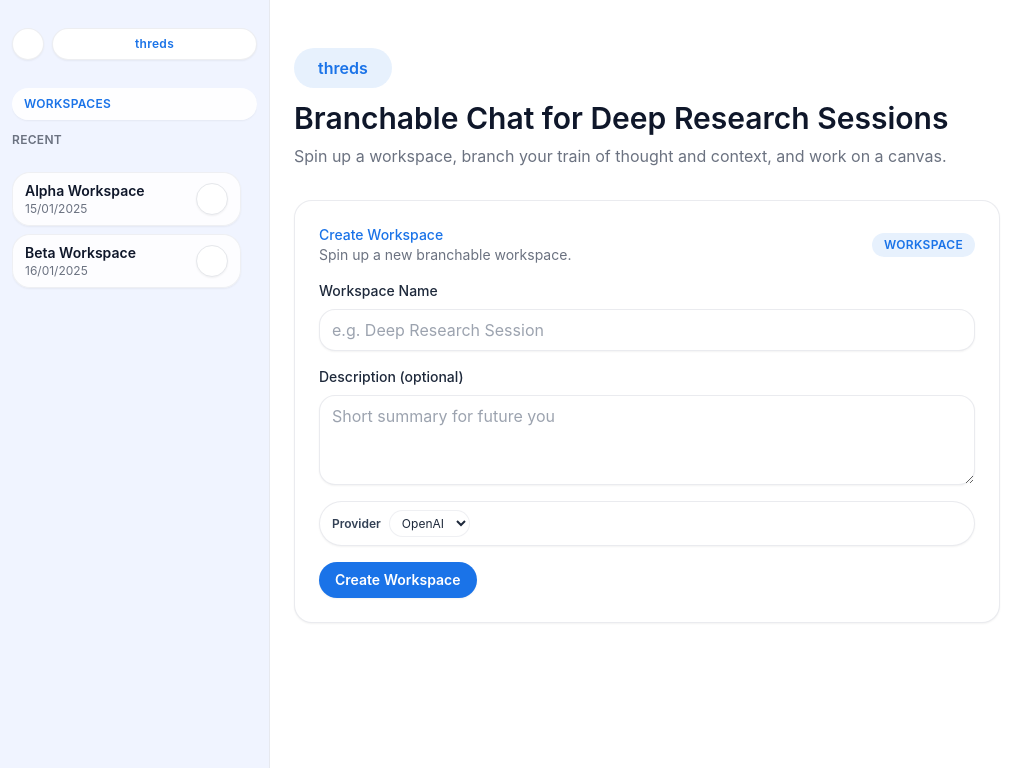
Test: HomePageContent archive behavior › archives a project after confirmation and persists localStorage
The width and height of the screenshot is (1024, 768).
Expected: the list item "Alpha Workspace 15/01/2025" is shown, [12,172,241,226]
Click the button named "Archive workspace" next to "Alpha Workspace" at {"x": 212, "y": 199}, box [196,183,228,215]
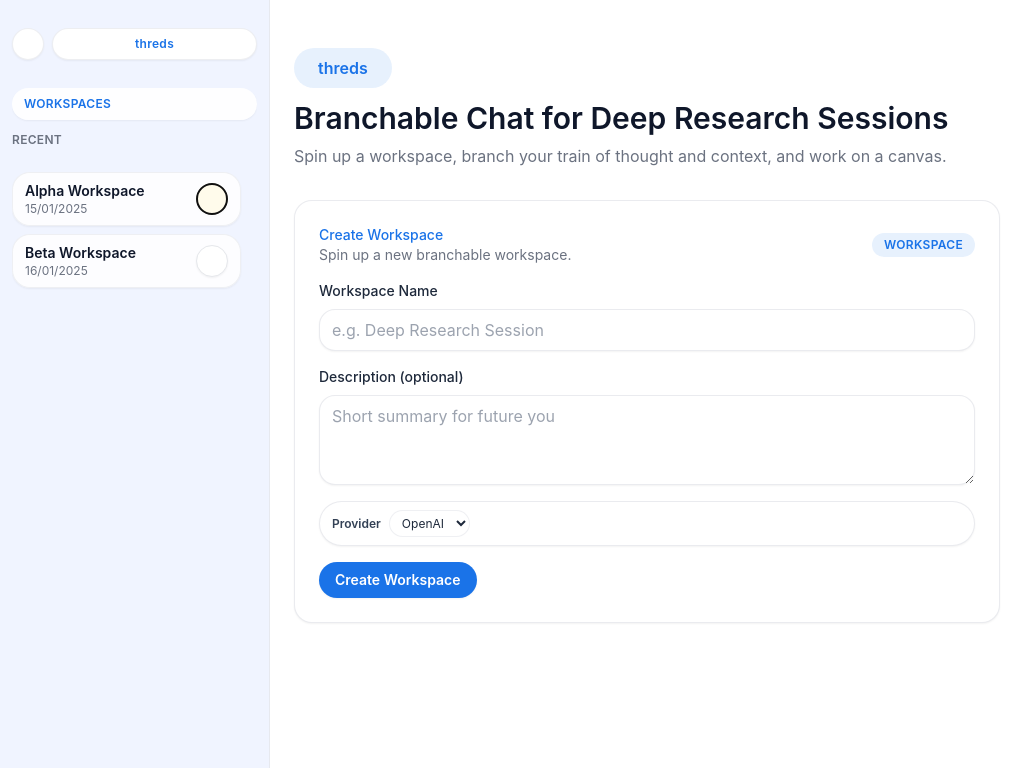
Click the button named "Confirm archive" at {"x": 212, "y": 199}, box [196,183,228,215]
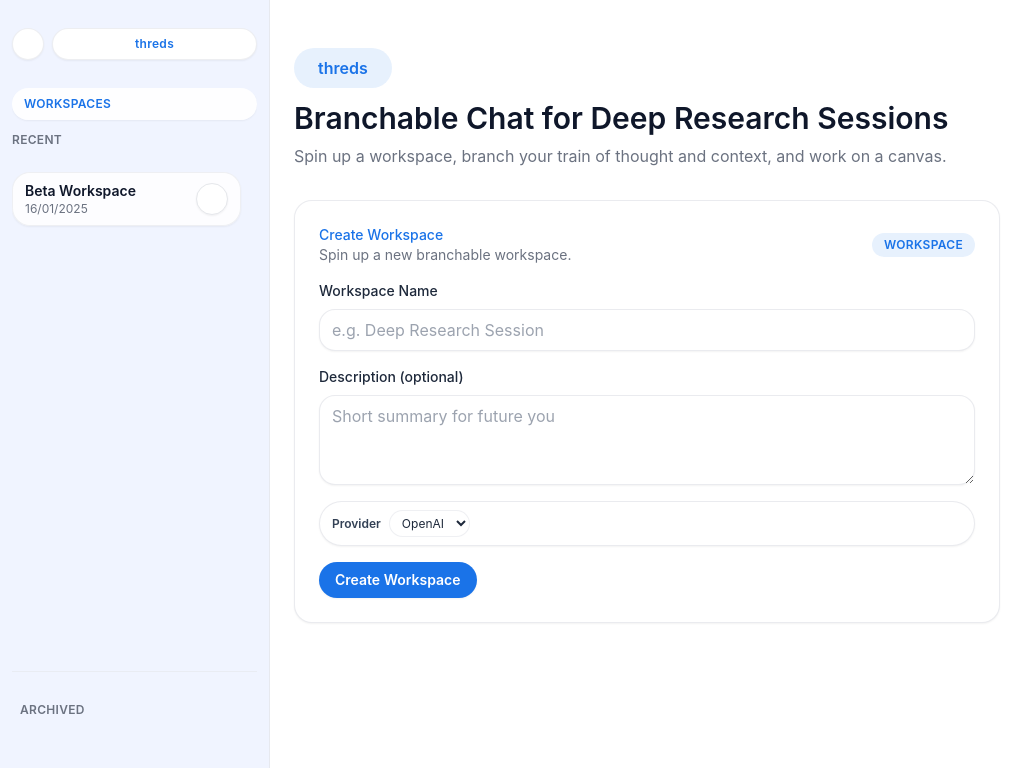
Click the button "Archived" at {"x": 134, "y": 710}, box [12,696,257,724]
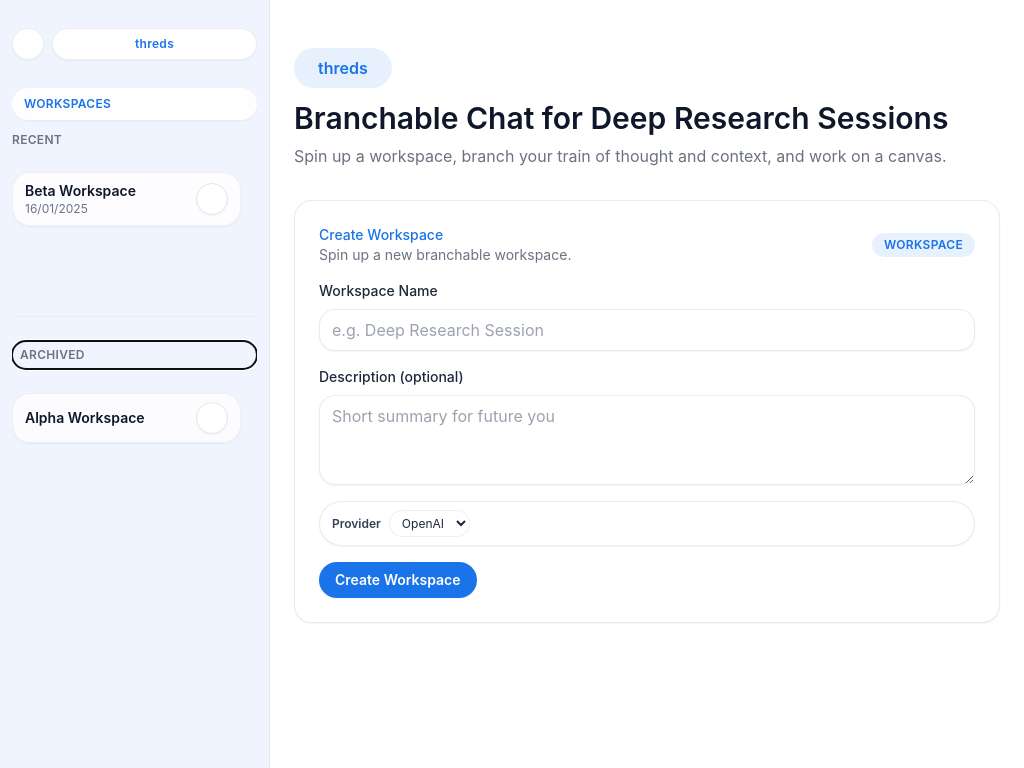
Result: the text "Archived" is shown at [20,347,85,363]
Result: the text "Alpha Workspace" is shown at [25,409,145,426]
